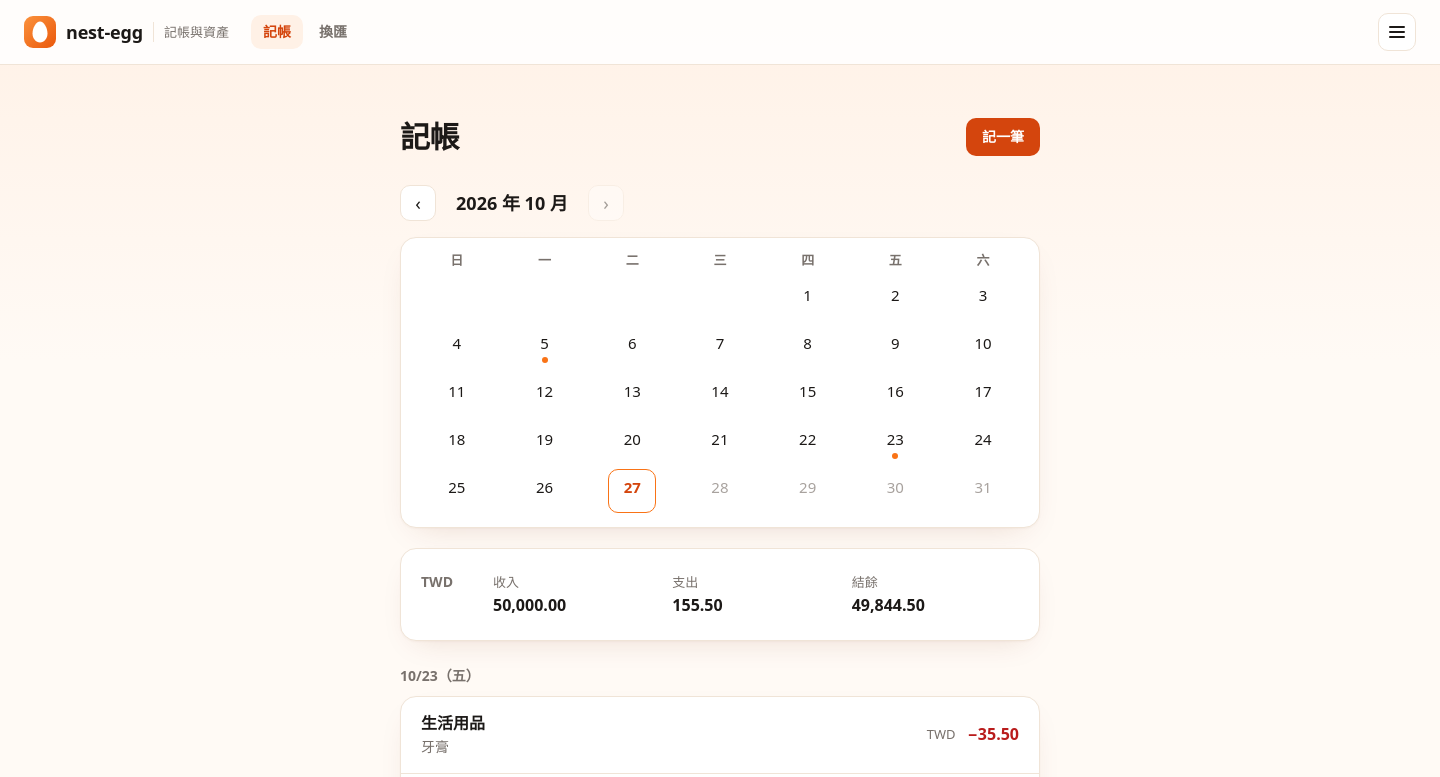
Scenario: calendar › says so when the picked day has no entries
Step 1. Click the button named "10/26（一）" → (544, 491), box [520, 469, 568, 513]
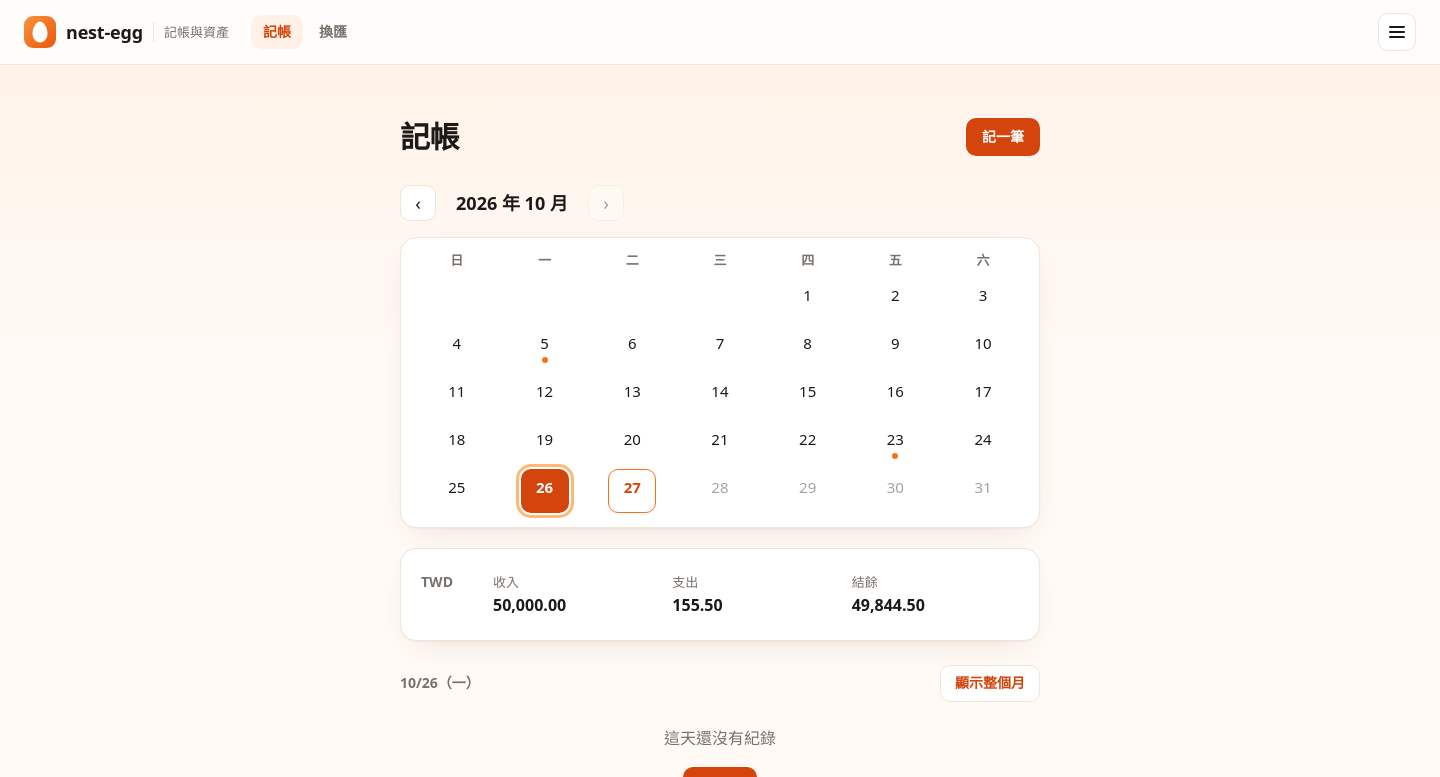
Now the text "這天還沒有紀錄" is shown, box [664, 726, 776, 751]
Now the heading "10/26（一）" is shown, box [400, 672, 480, 695]
Now no list items are shown
